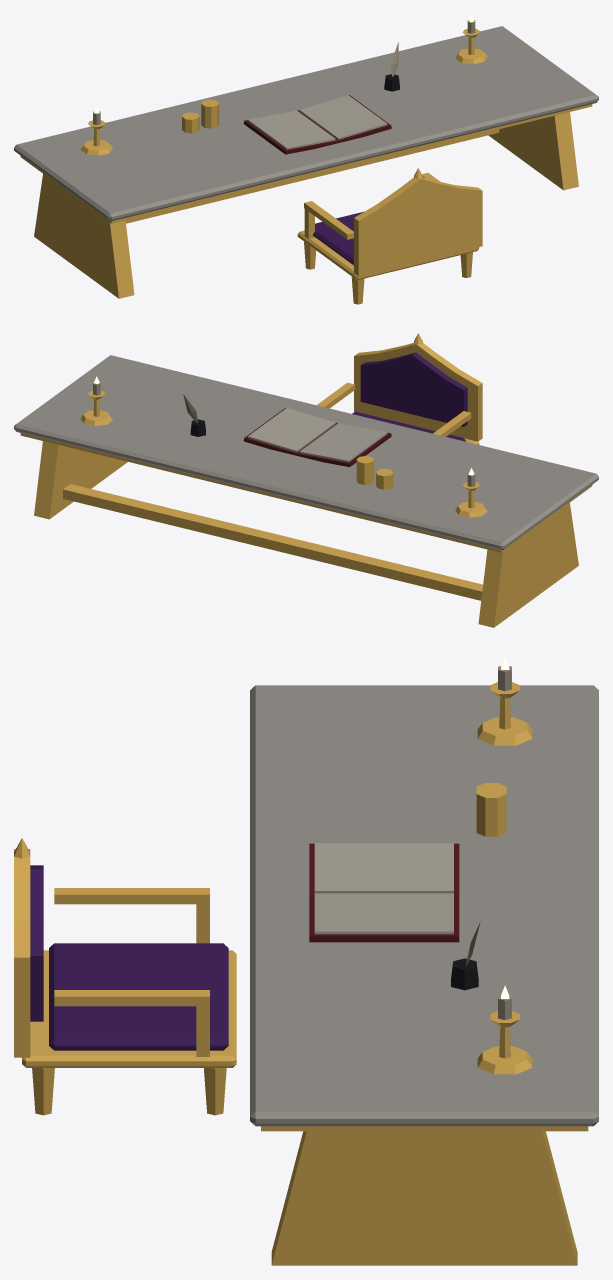
The picture shows the model from 3 angles, top to bottom: view 1: azimuth 30°, elevation 25°; view 2: azimuth 150°, elevation 25°; view 3: azimuth 270°, elevation 25°; orthographic projection. The views are drawn at different scales.
Visible parts, largest first — view 1: furniture_19_desk_unique_marble; view 2: furniture_19_desk_unique_marble; view 3: furniture_19_desk_unique_marble.
Boxes of the visible parts, x1=… form: furniture_19_desk_unique_marble: x1=14, y1=14, x2=598, y2=304; furniture_19_desk_unique_marble: x1=14, y1=333, x2=598, y2=627; furniture_19_desk_unique_marble: x1=14, y1=656, x2=598, y2=1265.
Size of the model in its own units: 3.8 by 1 by 2.18.
